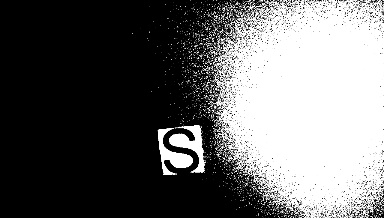S: (155, 125, 205, 174)
